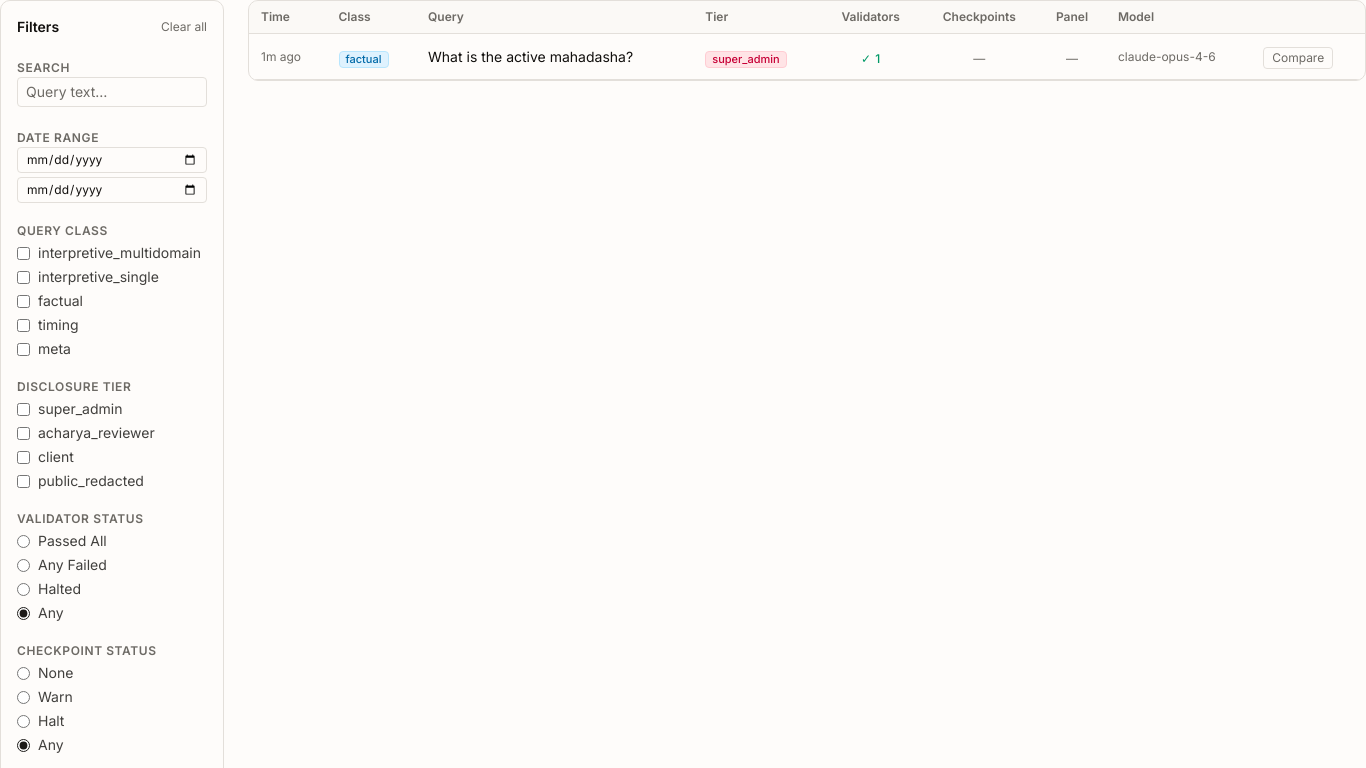
Test: AuditListClient › shows error state on fetch failure
Type "x" into the search field at (112, 92), box left=17, top=77, right=207, bottom=107
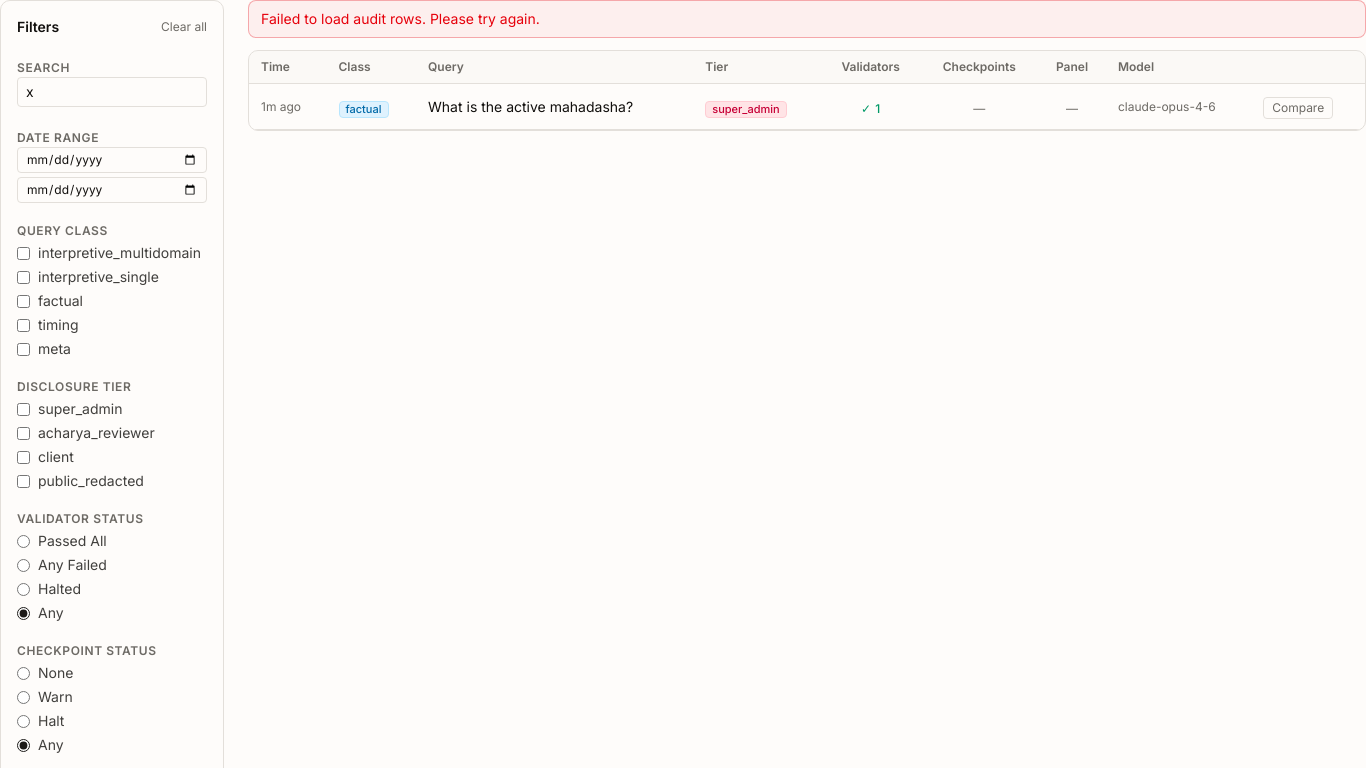
expect the message "Failed to load audit rows. Please try again." is shown: met, box left=248, top=0, right=1365, bottom=38
